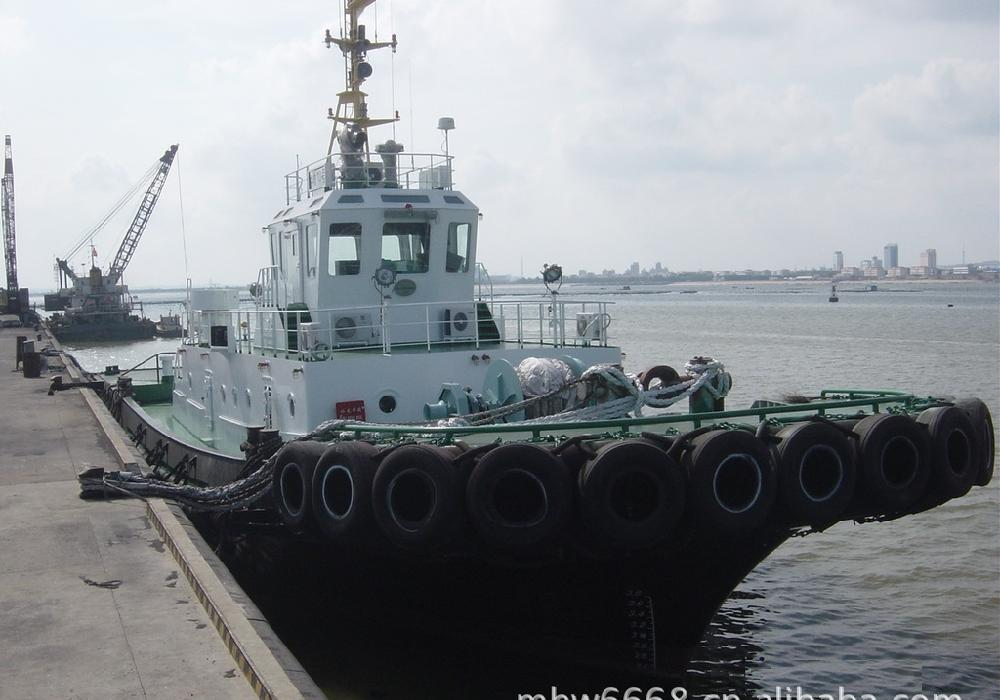otherboat: (90, 1, 996, 668), (53, 257, 147, 340), (145, 308, 187, 346)
